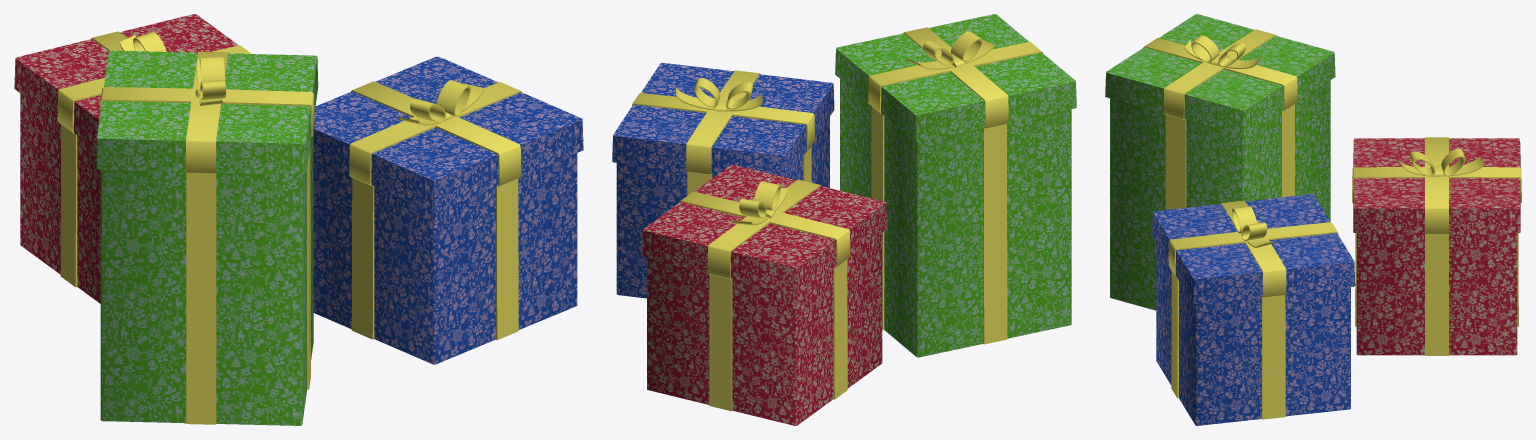
Rendered from Present.gltf.
The picture shows the model from 3 angles, left to right: view 1: azimuth 30°, elevation 25°; view 2: azimuth 150°, elevation 25°; view 3: azimuth 270°, elevation 25°; orthographic projection. The views are drawn at different scales.
Parts seen in each view (by area): view 1: Presents; view 2: Presents; view 3: Presents.
Part boxes in pixels (box(x1,y1,x2,y2)): Presents: box(14, 14, 583, 425); Presents: box(612, 14, 1076, 425); Presents: box(1105, 14, 1521, 425).
Size of what is drawn, in the model's own units: 2.48 by 1.52 by 2.32.
4 materials, 3 textured.
